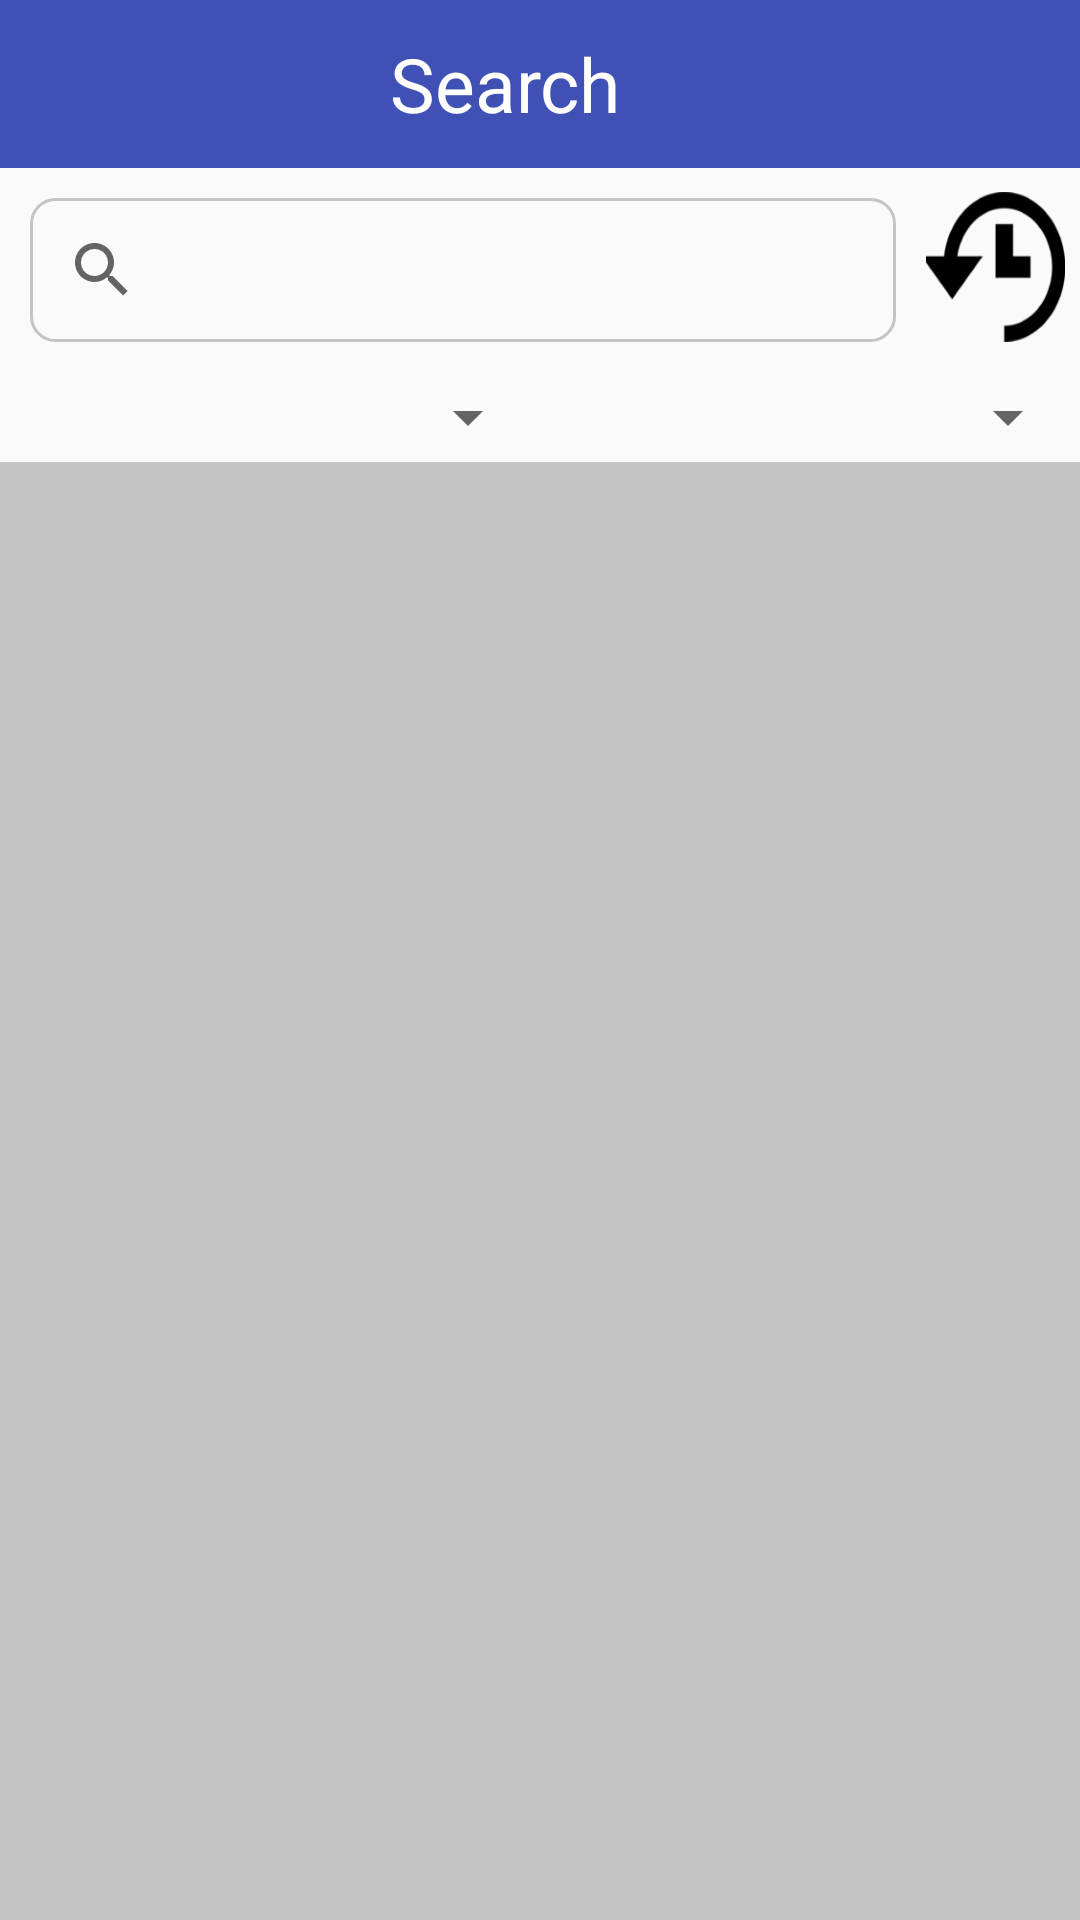

Named icons in this screenshot (1080 x 1920) and their centers, (x=x, y=y):
history: (x=995, y=267)
